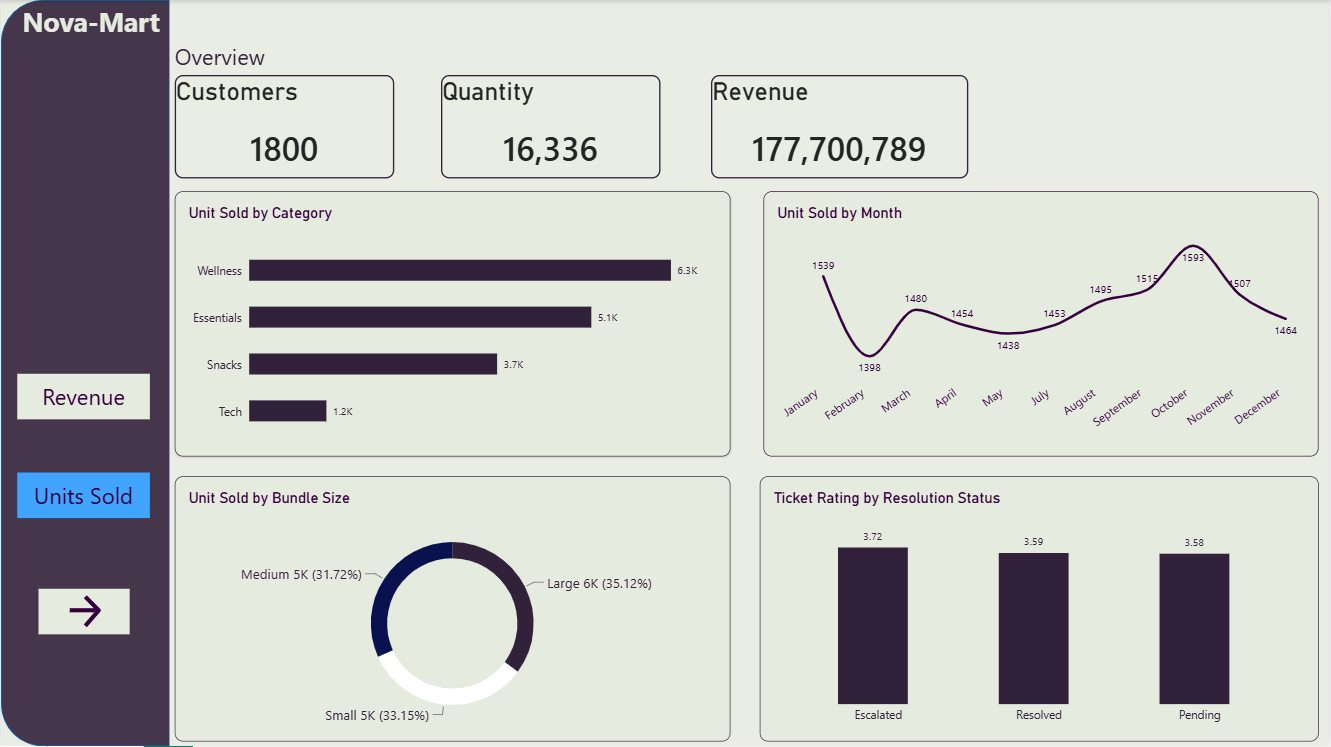

What the dashboard file says about the page in this screenshot:
{"tool":"powerbi","page":{"name":"Page 1","canvas":[1600,900],"ordinal":0},"visuals":[{"type":"clusteredBarChart","fields":{"Y":["public subscriptions.Unit Sold"],"Category":["public bundles.category"]},"box":[210,230,670,320],"z":0},{"type":"lineChart","fields":{"Y":["public subscriptions.Unit Sold"],"Category":["public payments.Month"]},"box":[919.9,230.7,669.6,319.7],"z":1000},{"type":"donutChart","fields":{"Y":["public subscriptions.Unit Sold"],"Category":["public bundles.bundle_size"]},"box":[210,575,670,320],"z":2000},{"type":"columnChart","fields":{"Y":["Avg(public support_tickets.rating)"],"Category":["public support_tickets.resolution_status"]},"box":[915.4,574.6,674.1,319.7],"z":4000},{"type":"shape","box":[0,0,203.6,900.3],"z":5000},{"type":"textbox","box":[25,5,179.5,66.4],"z":6000},{"type":"cardVisual","title":"Revenue","fields":{"Data":["public subscriptions.Revenue"]},"box":[856.6,90.5,310.7,125.2],"z":7000},{"type":"cardVisual","title":"Customers","fields":{"Data":["CountNonNull(public support_tickets.customer_id)"]},"box":[210,90,265,125.2],"z":8000},{"type":"cardVisual","title":"Quantity","fields":{"Data":["Sum(public subscriptions.quantity)"]},"box":[530.8,90.5,265,125.2],"z":9000},{"type":"textbox","box":[210,50,130,50],"z":10000},{"type":"actionButton","box":[20,450.9,160,55],"z":11000},{"type":"actionButton","box":[45.2,710.3,110,55],"z":13000},{"type":"actionButton","box":[20,570,160,55],"z":15000}]}

Visuals, with their boxes in screenshot pixels (x1, y1, x2, y2), scaled from the page's 1600x900 canvas onto the 1331x747 screenshot:
clusteredBarChart - public subscriptions.Unit Sold x public bundles.category: (x1=175, y1=191, x2=732, y2=456)
lineChart - public subscriptions.Unit Sold x public payments.Month: (x1=765, y1=191, x2=1322, y2=457)
donutChart - public subscriptions.Unit Sold x public bundles.bundle_size: (x1=175, y1=477, x2=732, y2=743)
columnChart - Avg(public support_tickets.rating) x public support_tickets.resolution_status: (x1=761, y1=477, x2=1322, y2=742)
shape: (x1=0, y1=0, x2=169, y2=746)
textbox: (x1=21, y1=4, x2=170, y2=59)
"Revenue" cardVisual: (x1=713, y1=75, x2=971, y2=179)
"Customers" cardVisual: (x1=175, y1=75, x2=395, y2=179)
"Quantity" cardVisual: (x1=442, y1=75, x2=662, y2=179)
textbox: (x1=175, y1=42, x2=283, y2=83)
actionButton: (x1=17, y1=374, x2=150, y2=420)
actionButton: (x1=38, y1=590, x2=129, y2=635)
actionButton: (x1=17, y1=473, x2=150, y2=519)
